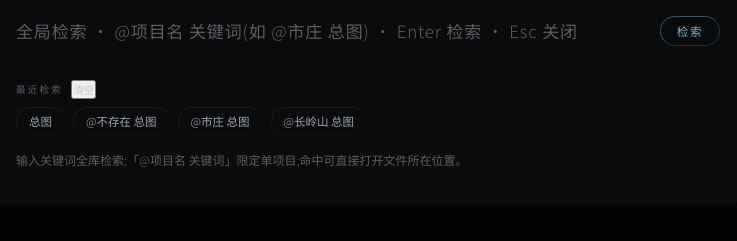
Test case: GlobalSearch 交互 › reveal 失败(文件缺失404) → 如实显示可读错误,不静默
Type "总图" into the field.
click(332, 31); type("总图")  # box [16,18,648,43]
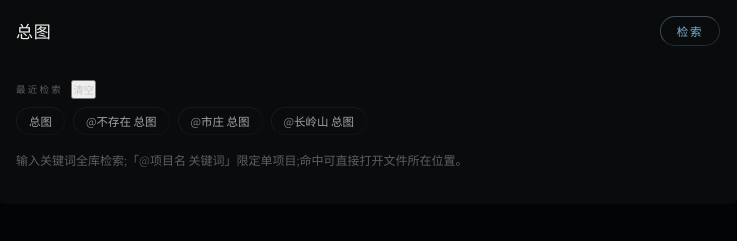
Press Enter in the field, box [16,18,648,43]
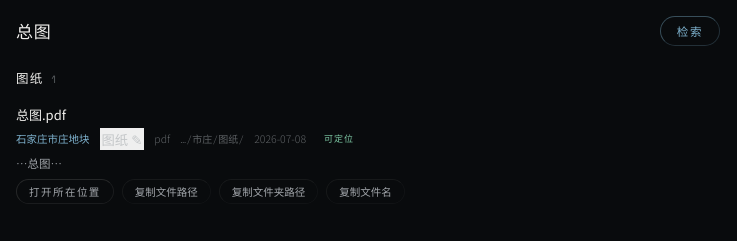
Expected: the button "打开所在位置" is shown
Click the button "打开所在位置".
click(65, 192)  # box [16,180,114,204]
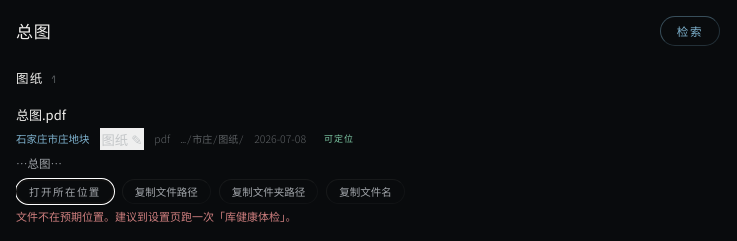
Expected: the text "文件不在预期位置。建议到设置页跑一次「库健康体检」。" is shown, [16,208,296,224]
